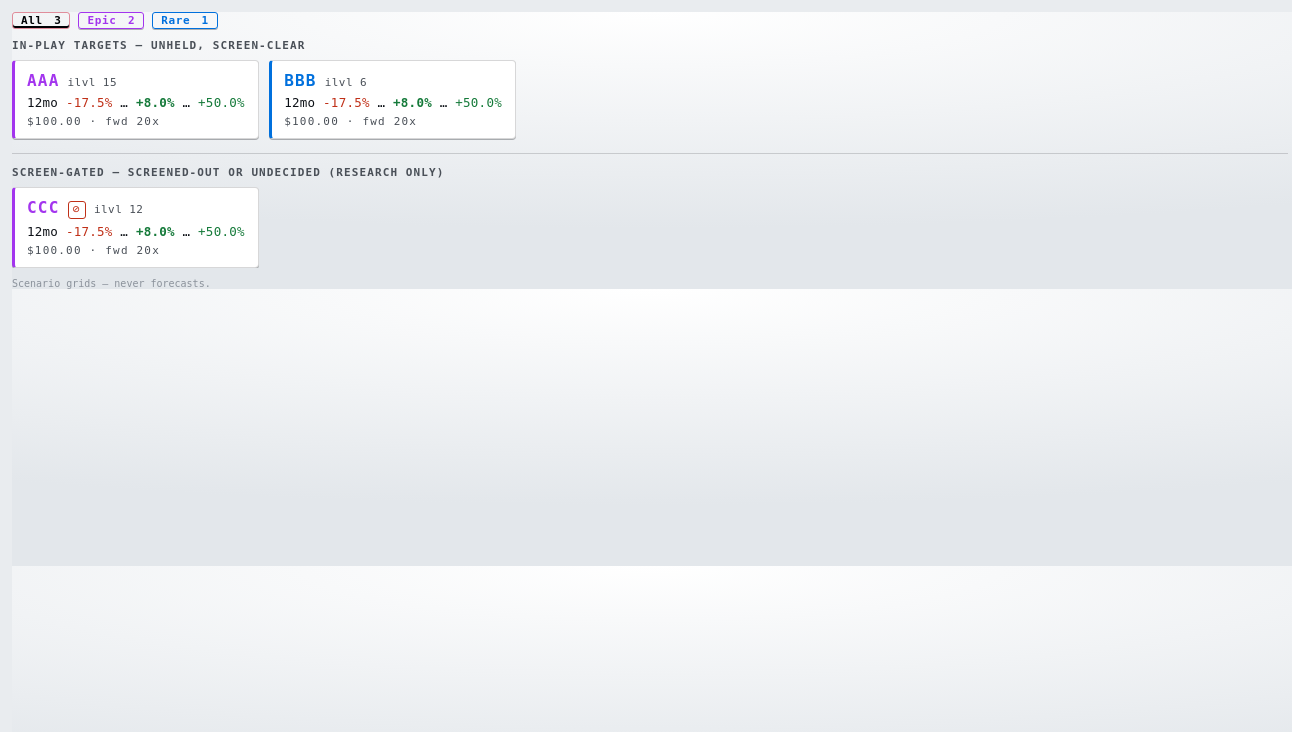
Test: ProjectionTiles › filters both panes by rarity chip; the active chip toggles back to All
The width and height of the screenshot is (1292, 732).
Check: the text "AAA" is shown, box [27, 71, 60, 90]
Check: the text "BBB" is shown, box [284, 71, 317, 90]
// click the epic chip: rare tile disappears, BOTH panes keep their epic members
Click the button "epic 2".
click(111, 20)  # box [78, 12, 144, 29]
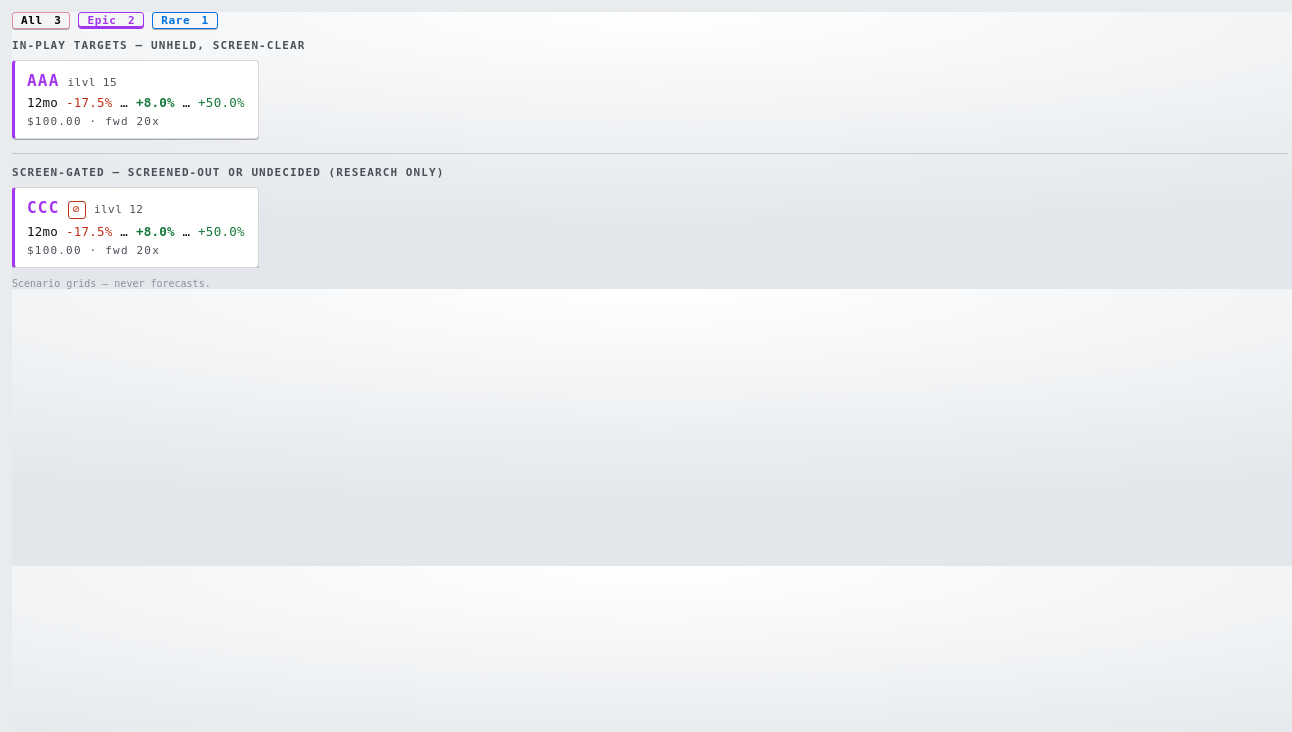
Check: the text "AAA" is shown, box [27, 71, 60, 90]
Check: the button "BBB" is gone
// clicking the ACTIVE chip toggles back to All
Click the button "epic 2".
click(111, 20)  # box [78, 12, 144, 29]
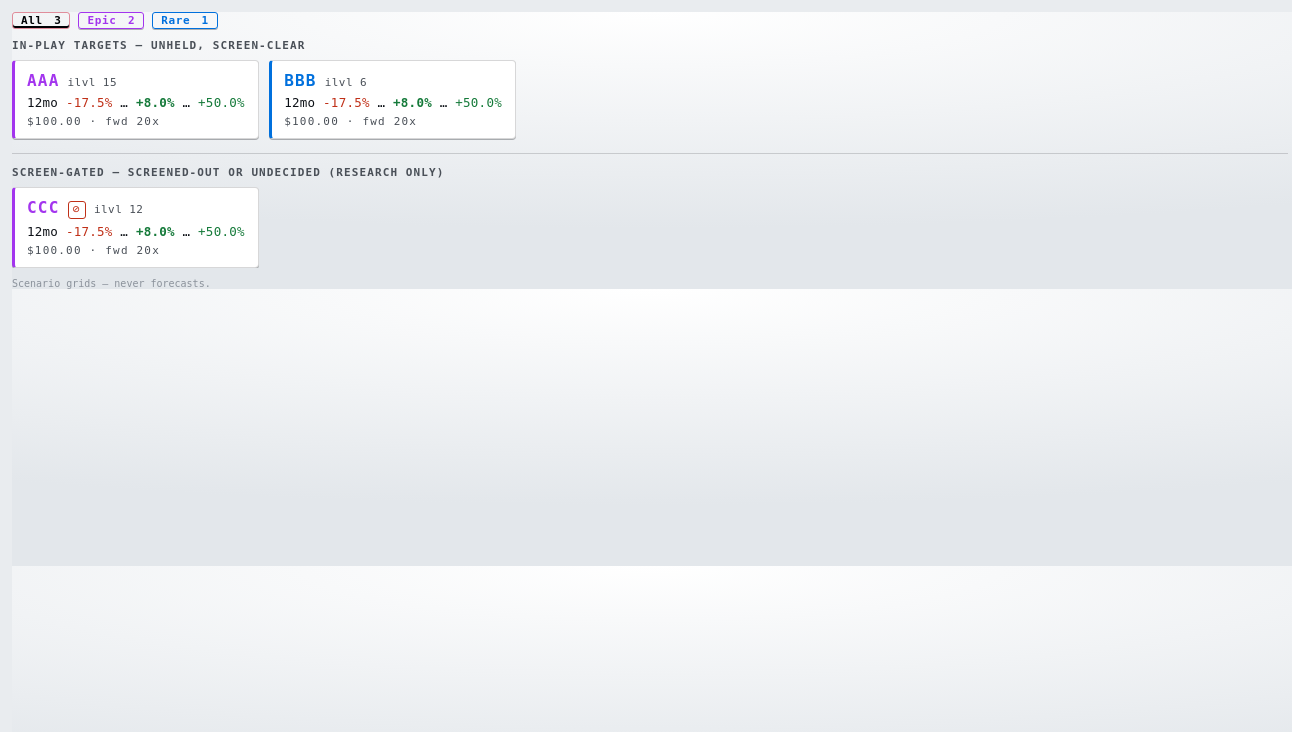
Check: the text "BBB" is shown, box [284, 71, 317, 90]
